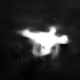plane: (18, 24, 71, 58)
